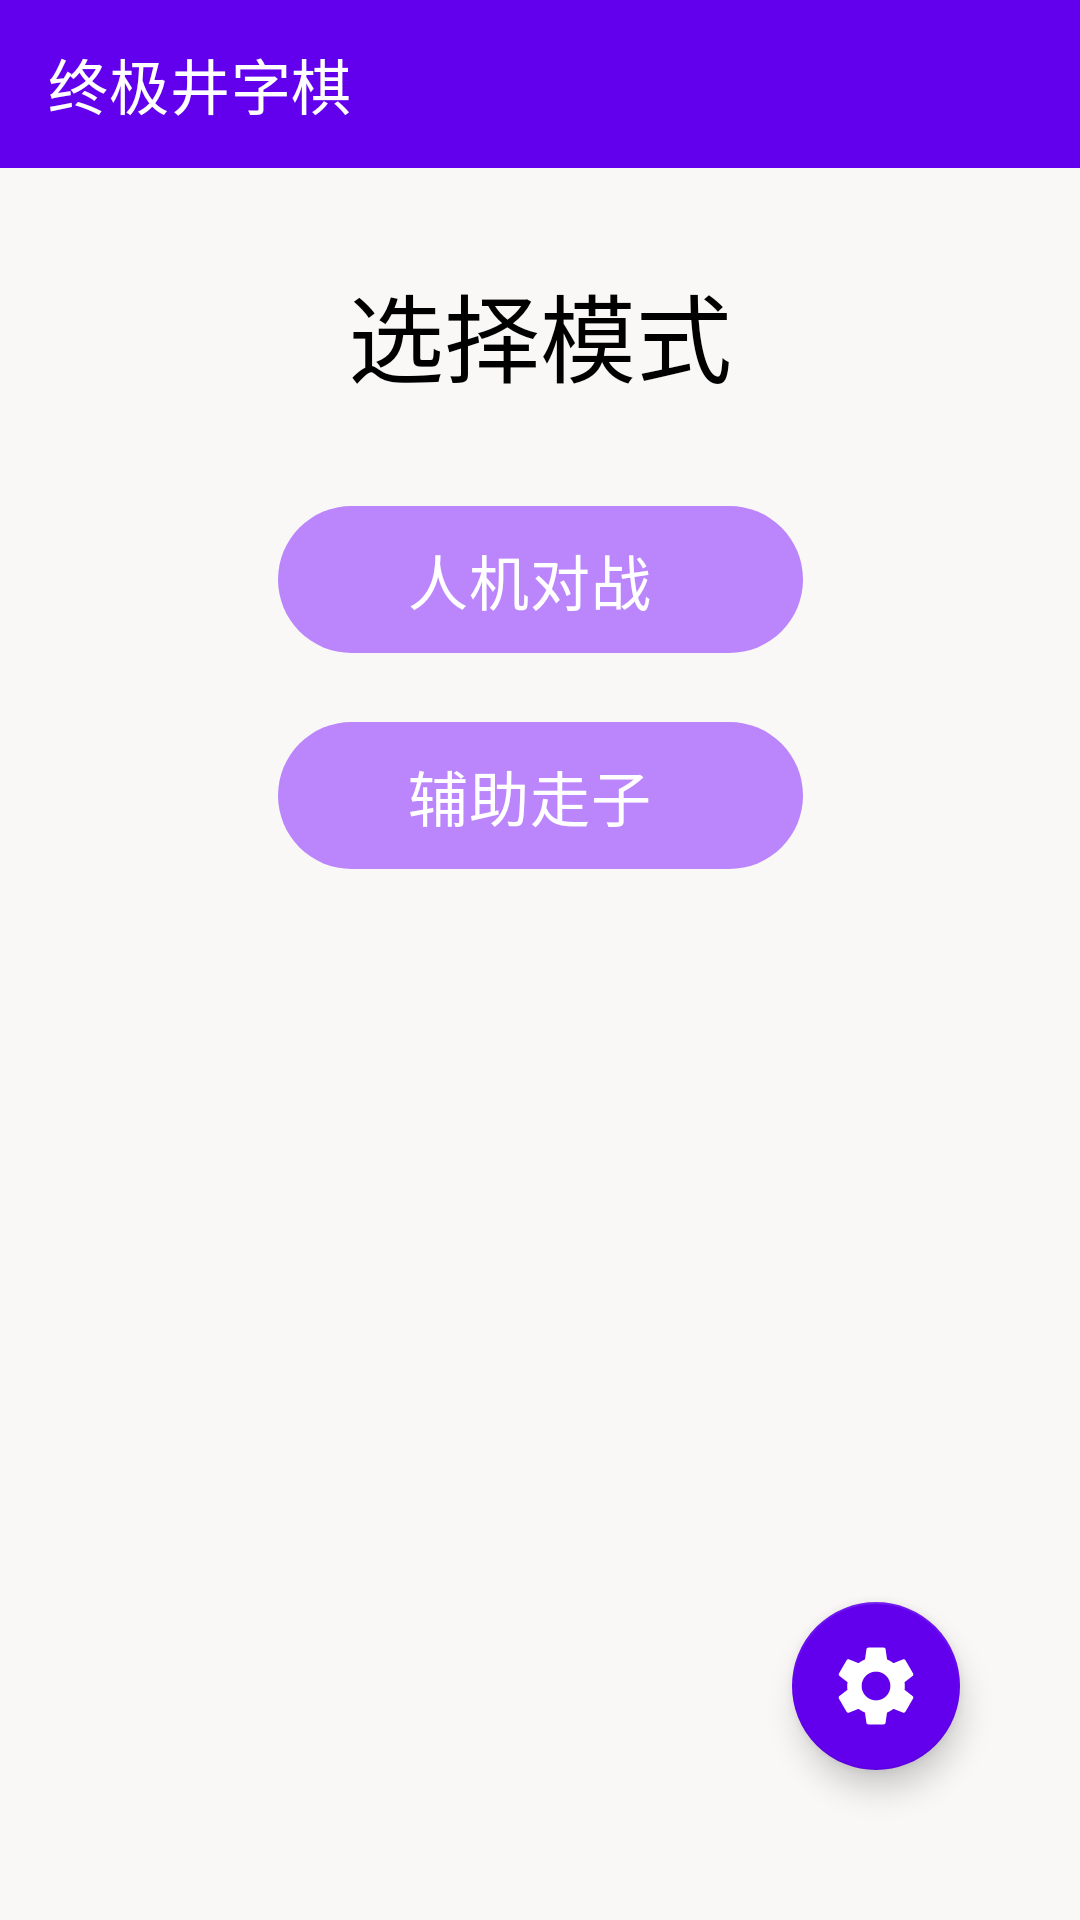

Point at icon controls on the screen. Image size 1080 × 1920, points as (x=x, y=y).
settings: (x=876, y=1686)
